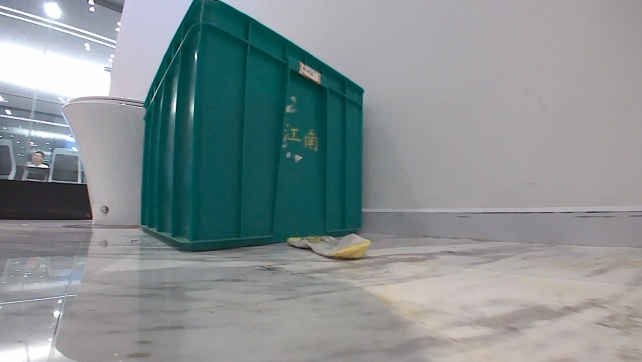socks: (282, 230, 371, 260)
toilet: (58, 91, 146, 228)
